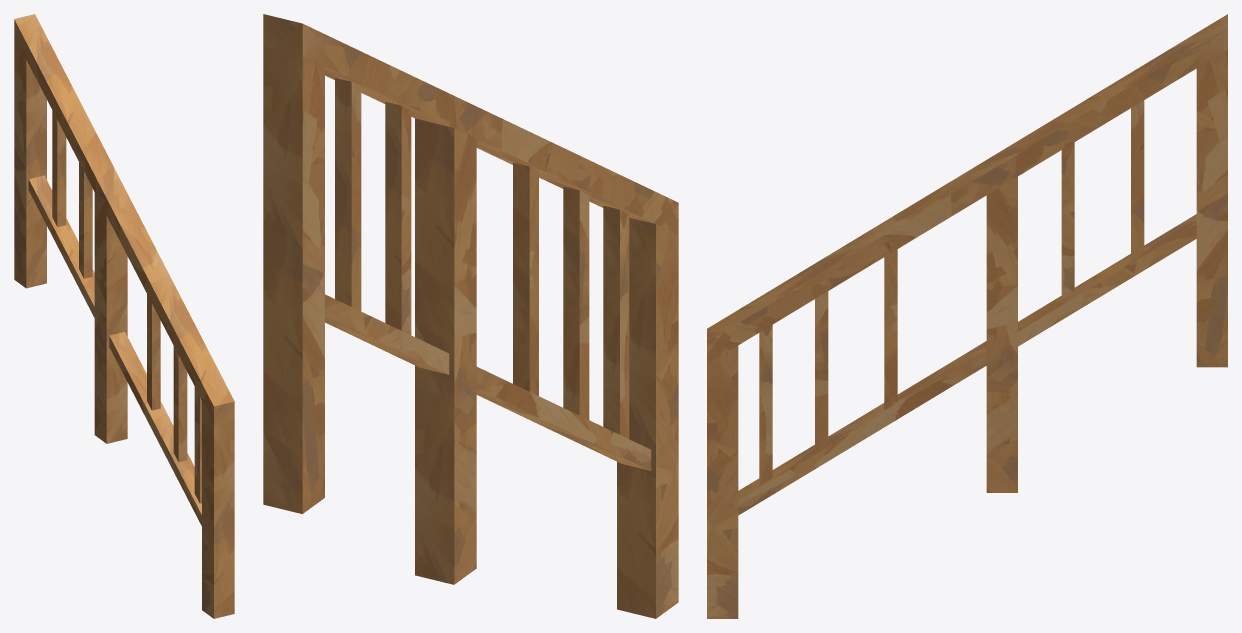
The model's file is PorchStairGuard.fbx.
3 views of the same model, side by side, from view 1: azimuth 30°, elevation 25°; view 2: azimuth 150°, elevation 25°; view 3: azimuth 270°, elevation 25° (orthographic). The views are drawn at different scales.
Visible parts, largest first — view 1: PorchStairGuard; view 2: PorchStairGuard; view 3: PorchStairGuard.
Boxes of the visible parts, x1,y1,x2,y2 form: PorchStairGuard: (14, 14, 234, 618); PorchStairGuard: (263, 14, 678, 618); PorchStairGuard: (707, 14, 1227, 618).
Size of the model in its own units: 0.09 by 1.88 by 1.5.
